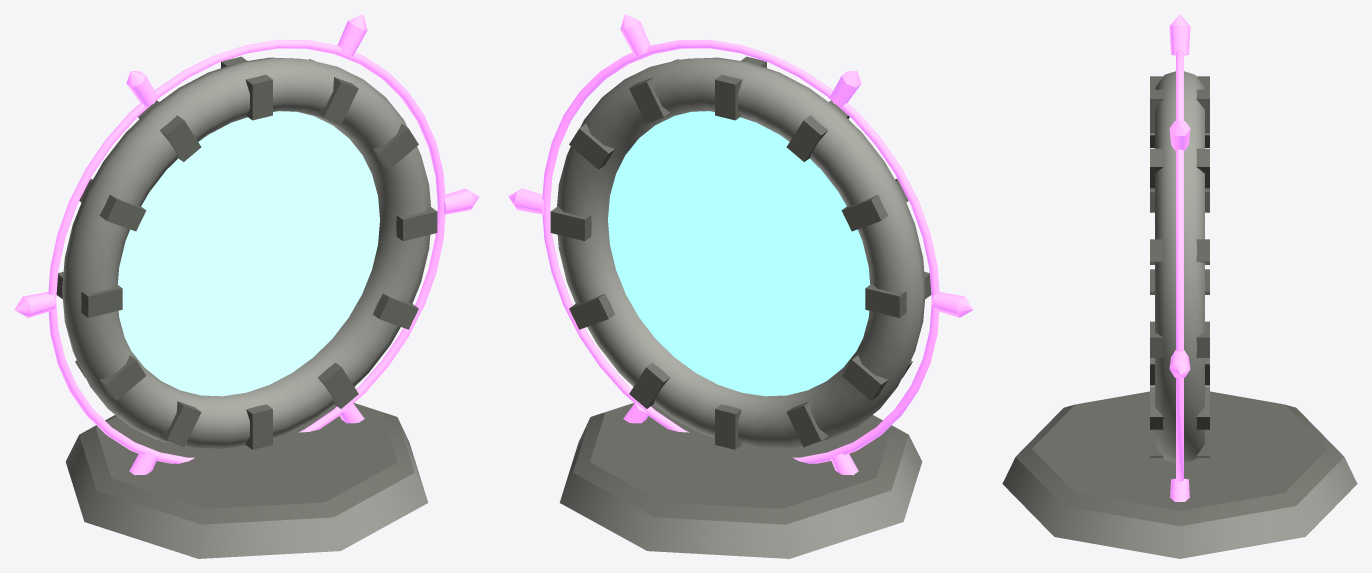
The model's file is TeleportPortal.glb.
The picture shows the model from 3 angles, left to right: view 1: azimuth 30°, elevation 25°; view 2: azimuth 150°, elevation 25°; view 3: azimuth 270°, elevation 25°; orthographic projection. The views are drawn at different scales.
Parts seen in each view (by area): view 1: Body, Glow, PortalRing; view 2: Body, Glow, PortalRing; view 3: Body, PortalRing.
Boxes of the visible parts, box(x1,y1,x2,y2) form: Body: box(56, 56, 437, 558); Glow: box(117, 111, 379, 396); PortalRing: box(14, 14, 479, 475); Body: box(550, 56, 931, 558); Glow: box(608, 111, 870, 396); PortalRing: box(508, 14, 973, 475); Body: box(1002, 71, 1357, 558); PortalRing: box(1169, 14, 1190, 501).
Bounding box in the file's own units: 6.8 × 6.14 × 4.75.
Materials: 4 (1 with a texture image).
